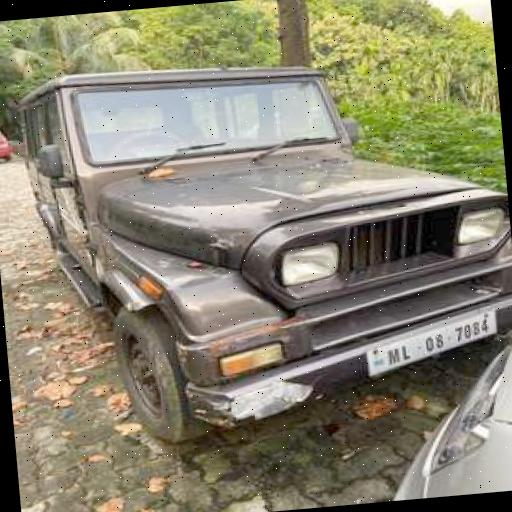license_plate`: (360, 307, 498, 376)
